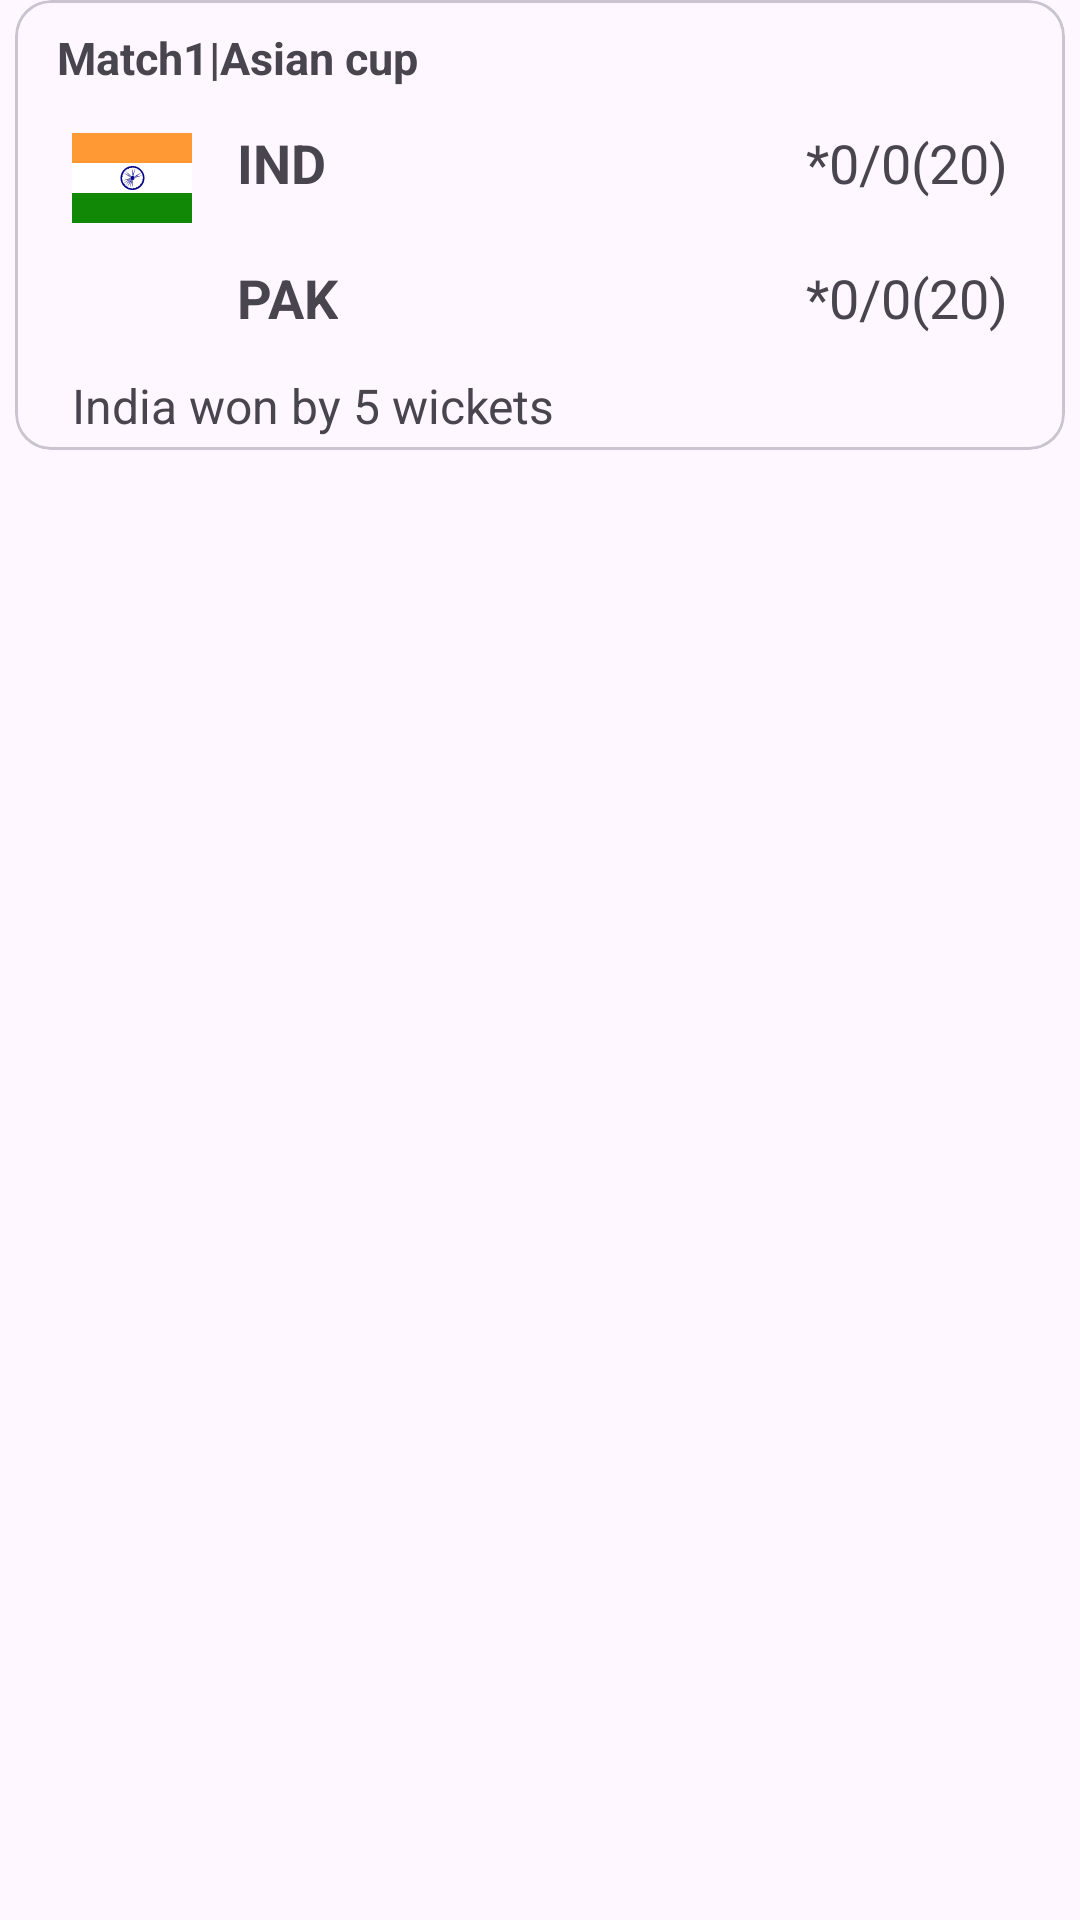

Where icons sit on this 1080px×1920px app screen, as (x1, y1, x2, y2):
flag of india: (72, 133, 192, 223)
